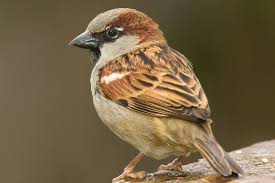hsparrow: (66, 6, 244, 183)
